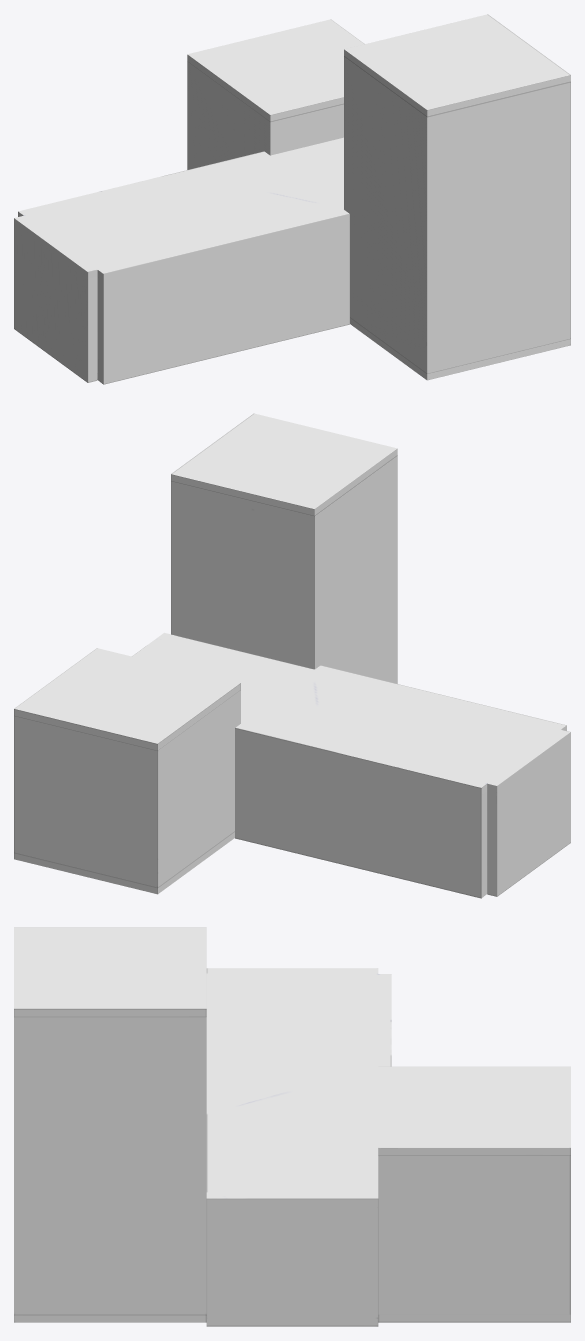
Rendered from room2.fbx.
3 views of the same model, one above another, from view 1: azimuth 30°, elevation 25°; view 2: azimuth 150°, elevation 25°; view 3: azimuth 270°, elevation 25° (orthographic). The views are drawn at different scales.
Visible parts, largest first — view 1: Cube.003; view 2: Cube.003; view 3: Cube.003.
Boxes of the visible parts, x1=… form: Cube.003: x1=14, y1=14, x2=570, y2=384; Cube.003: x1=14, y1=413, x2=570, y2=898; Cube.003: x1=14, y1=927, x2=570, y2=1326.
Size of the model in its own units: 12587 by 8017 by 12860.
